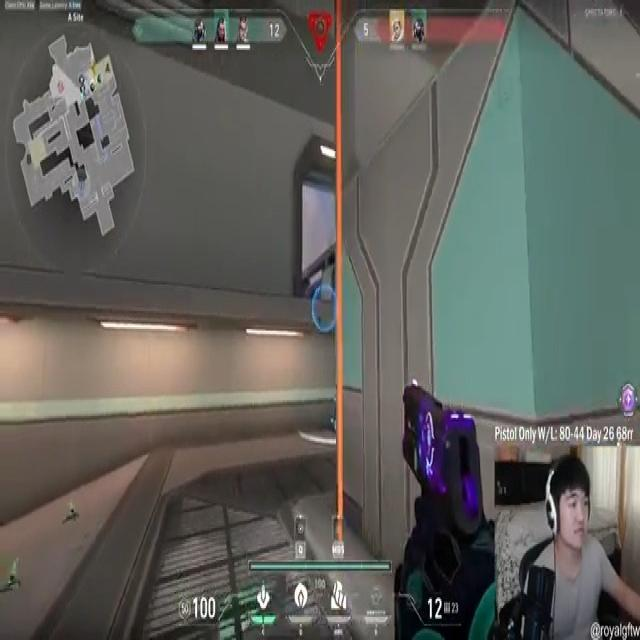spike-planted: (331, 388, 337, 444)
